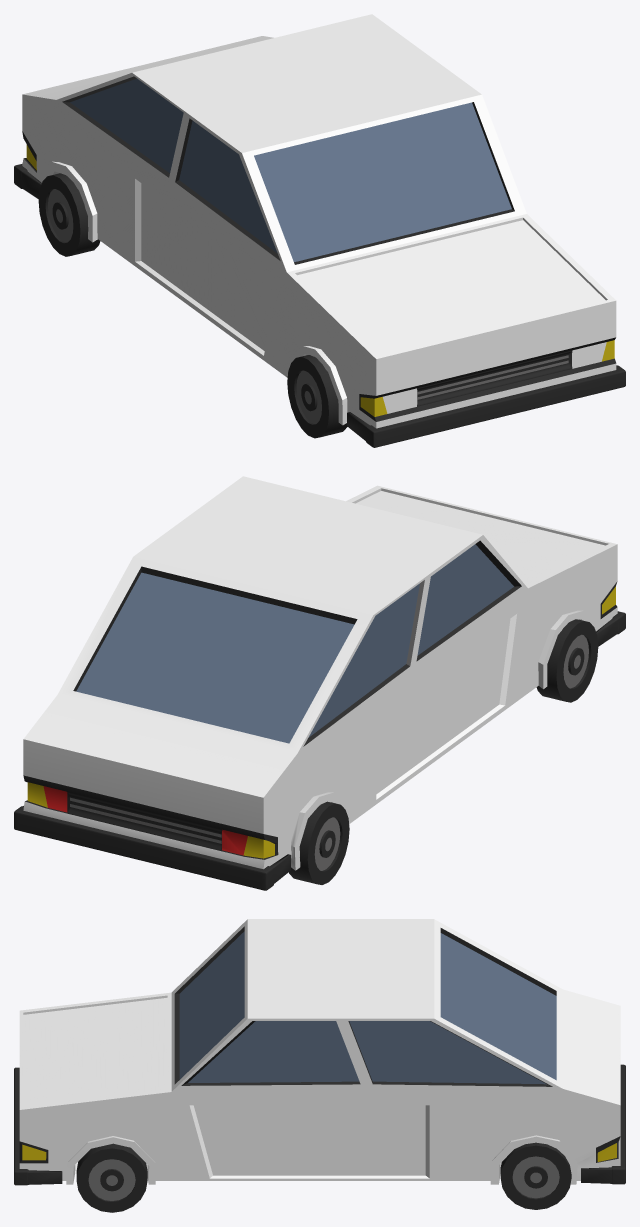
The model's file is Car_White.fbx.
3 views of the same model, one above another, from view 1: azimuth 30°, elevation 25°; view 2: azimuth 150°, elevation 25°; view 3: azimuth 270°, elevation 25° (orthographic). The views are drawn at different scales.
Visible parts, largest first — view 1: Car_White; view 2: Car_White; view 3: Car_White.
Boxes of the visible parts, left/top/right/bottom form: Car_White: left=14, top=14, right=625, bottom=447; Car_White: left=14, top=476, right=625, bottom=890; Car_White: left=14, top=919, right=625, bottom=1212.
Size of the model in its own units: 2.22 by 1.75 by 5.16.
